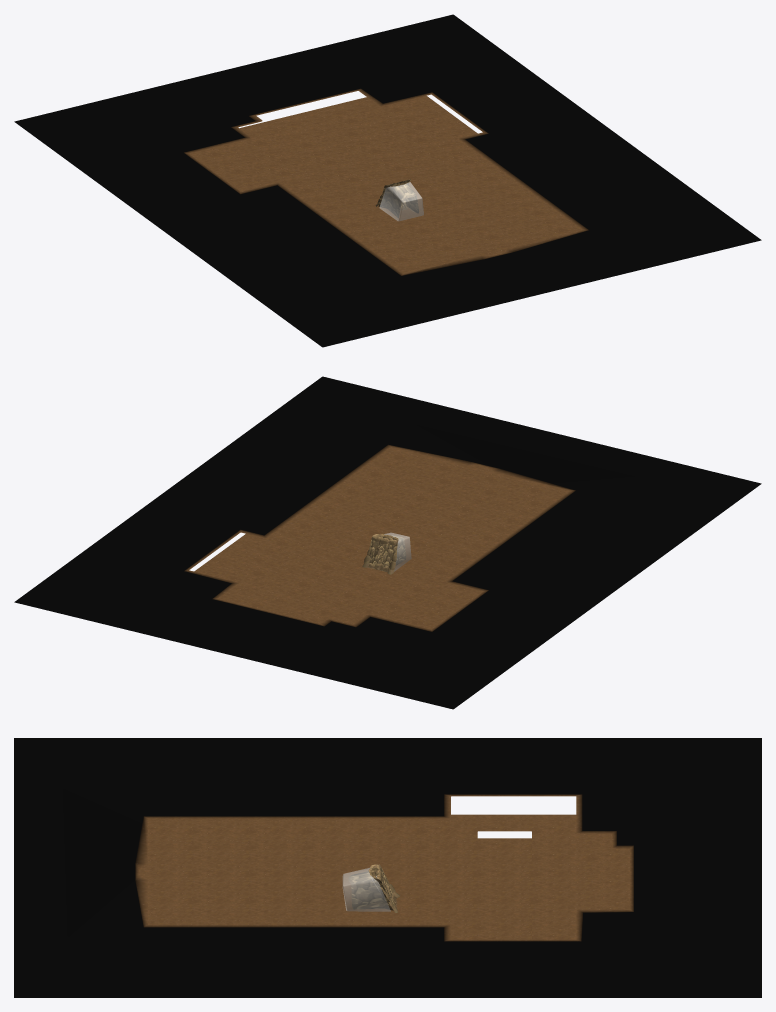
3 views of the same model, one above another, from view 1: azimuth 30°, elevation 25°; view 2: azimuth 150°, elevation 25°; view 3: azimuth 270°, elevation 25° (orthographic). The views are drawn at different scales.
Visible parts, largest first — view 1: lib:ashikanadeyaoshi_floor, Plane001, pCube5_H1; view 2: lib:ashikanadeyaoshi_floor, pCube4_W_H_3; view 3: lib:ashikanadeyaoshi_floor, Plane001, pCube5_H1.
Part boxes in pixels (<box>): lib:ashikanadeyaoshi_floor: <box>14,14,761,347</box>; Plane001: <box>379,182,423,221</box>; pCube5_H1: <box>378,182,418,218</box>; lib:ashikanadeyaoshi_floor: <box>14,376,761,709</box>; pCube4_W_H_3: <box>368,538,396,572</box>; lib:ashikanadeyaoshi_floor: <box>14,738,761,997</box>; Plane001: <box>342,868,390,911</box>; pCube5_H1: <box>348,869,393,910</box>.
Size of the model in its own units: 34.49 by 2.08 by 41.96.
Materials: 6 (6 with a texture image).
